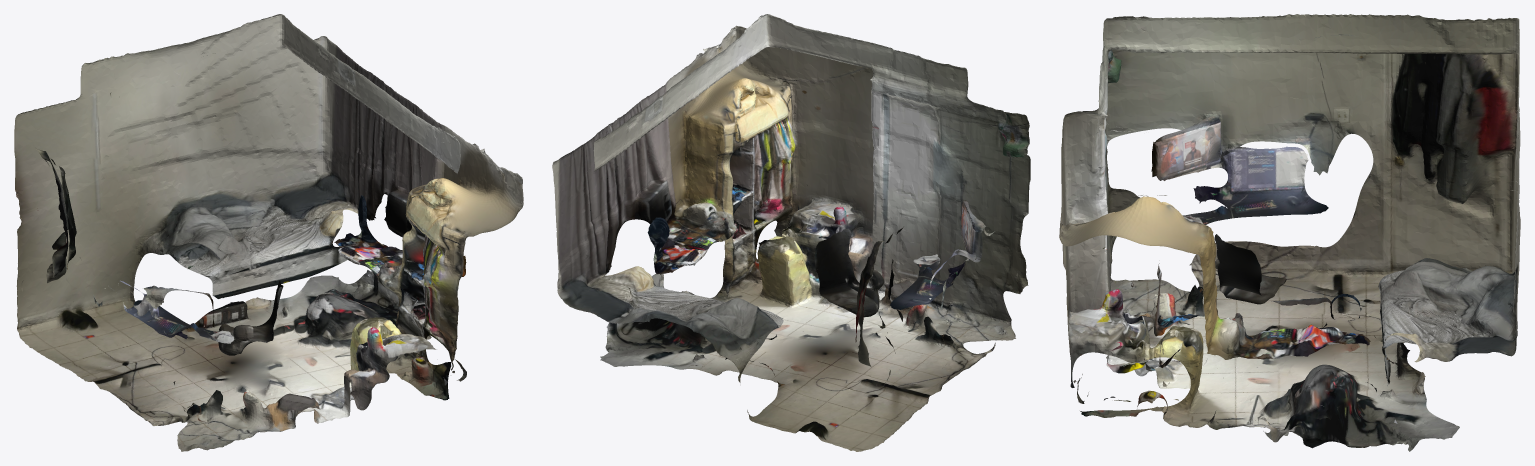
3 renders of one model, left to right at view 1: azimuth 30°, elevation 25°; view 2: azimuth 150°, elevation 25°; view 3: azimuth 270°, elevation 25°, orthographic. The views are drawn at different scales.
Size of the model in its own units: 3.32 by 2.53 by 3.46.
2 materials, 2 textured.
